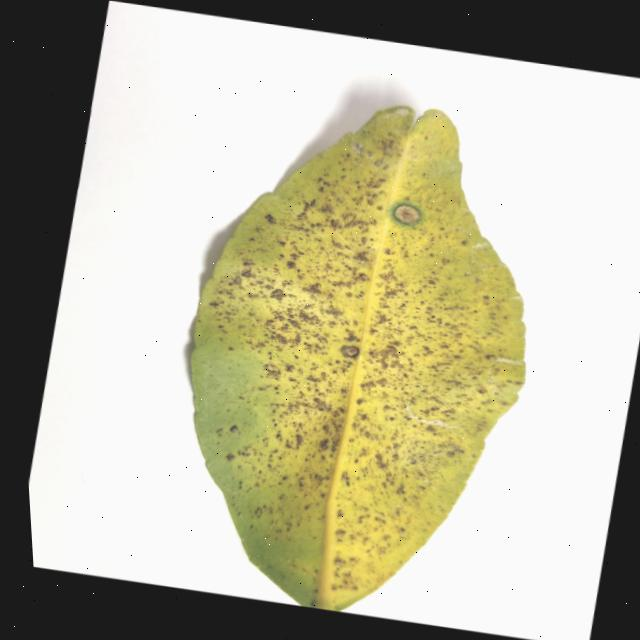melanose: (191, 105, 524, 609)
